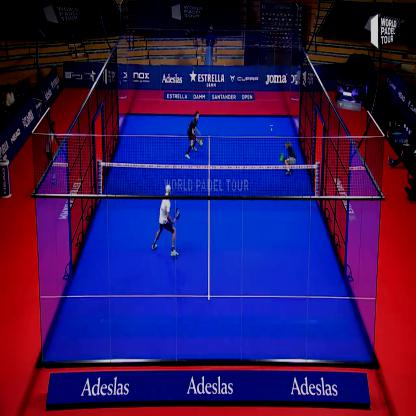ball: (270, 125, 274, 134)
